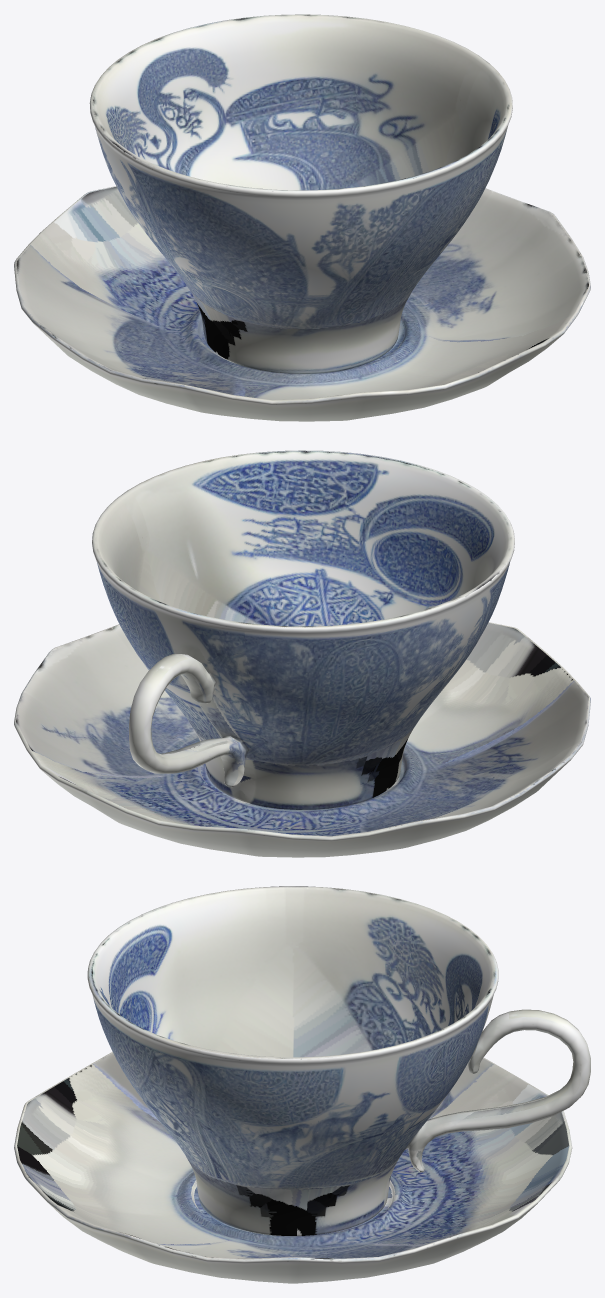
3 views of the same model, one above another, from view 1: azimuth 30°, elevation 25°; view 2: azimuth 150°, elevation 25°; view 3: azimuth 270°, elevation 25° (orthographic). The views are drawn at different scales.
Parts seen in each view (by area): view 1: textured.004; view 2: textured.004; view 3: textured.004.
Boxes of the visible parts, box(x1,y1,x2,y2) form: textured.004: box(14, 14, 590, 421); textured.004: box(14, 450, 590, 857); textured.004: box(14, 886, 590, 1283).
Bounding box in the file's own units: 1.95 × 0.945 × 2.
1 material, 1 textured.
